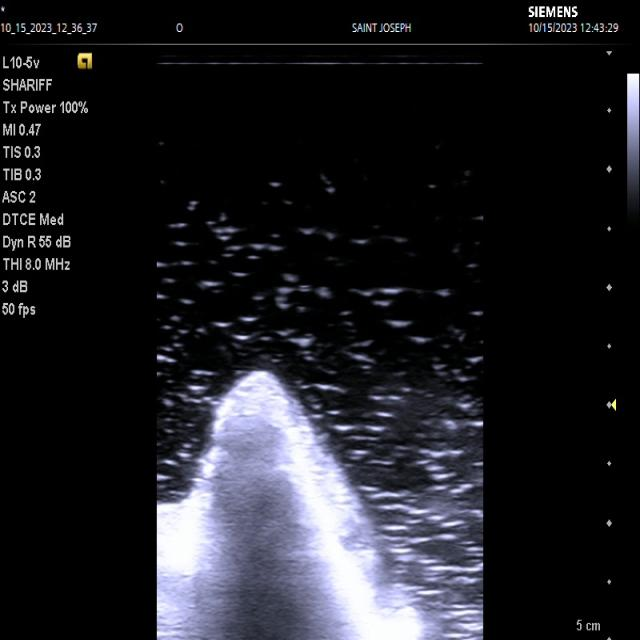tissue: (158, 371, 399, 640)
